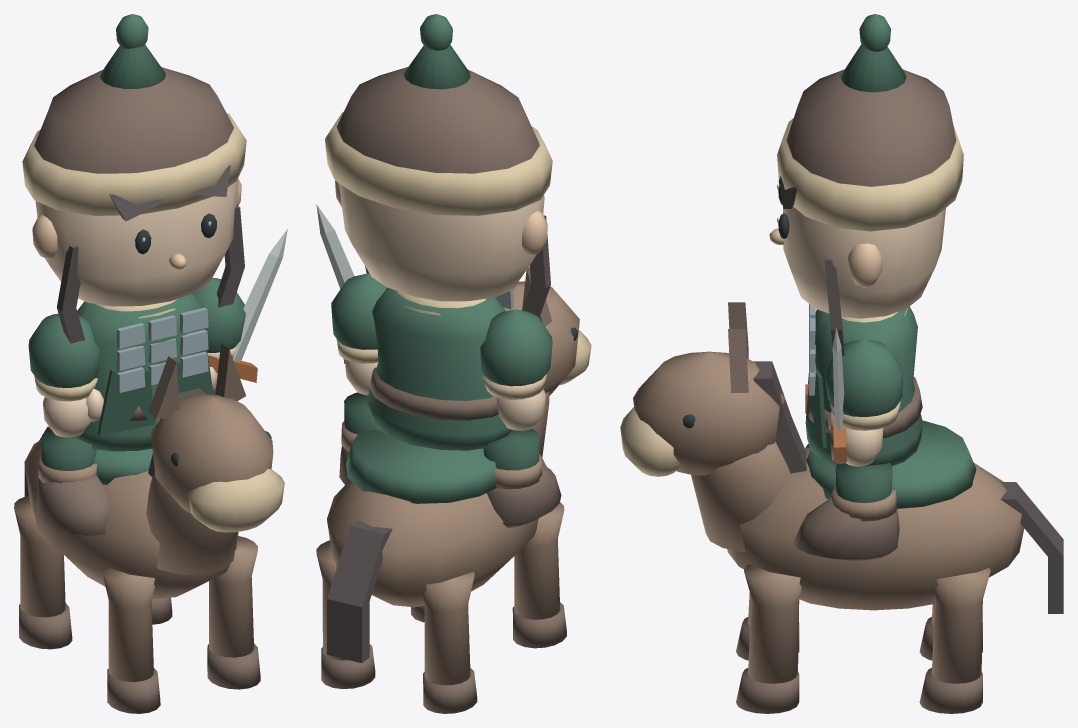
Rendered from rider.glb.
3 views of the same model, side by side, from view 1: azimuth 30°, elevation 25°; view 2: azimuth 150°, elevation 25°; view 3: azimuth 270°, elevation 25° (orthographic). The views are drawn at different scales.
Parts seen in each view (by area): view 1: Regional helmet, Soft cheek head, Pony head, Fur hat brim, Plump pony body, Short folded tunic, Pony neck, Pony stubby leg, Pony stubby leg.001, Pony muzzle, Pony stubby leg.002, Puff sleeve (+34 smaller); view 2: Regional helmet, Soft cheek head, Short folded tunic, Plump pony body, Fur hat brim, Saddle blanket, Pony tail, Pony stubby leg.002, Puff sleeve, Pony stubby leg, Puff sleeve.001, Broad leather belt (+20 smaller); view 3: Plump pony body, Regional helmet, Pony head, Soft cheek head, Fur hat brim, Pony neck, Short folded tunic, Saddle blanket, Pony stubby leg.001, Pony stubby leg.003, Round leather boot.001, Puff sleeve.001 (+17 smaller).
Part boxes in pixels (bbox=[...]): Regional helmet: bbox=[34, 67, 233, 173]; Soft cheek head: bbox=[35, 179, 238, 306]; Pony head: bbox=[151, 394, 273, 513]; Fur hat brim: bbox=[22, 113, 246, 215]; Plump pony body: bbox=[24, 440, 238, 598]; Short folded tunic: bbox=[74, 293, 203, 451]; Pony neck: bbox=[146, 471, 237, 575]; Pony stubby leg: bbox=[102, 566, 154, 681]; Pony stubby leg.001: bbox=[209, 536, 257, 657]; Pony muzzle: bbox=[188, 468, 284, 532]; Pony stubby leg.002: bbox=[14, 496, 65, 617]; Puff sleeve: bbox=[28, 313, 99, 387]; Regional helmet: bbox=[337, 67, 539, 173]; Soft cheek head: bbox=[339, 183, 544, 301]; Short folded tunic: bbox=[366, 287, 511, 450]; Plump pony body: bbox=[327, 456, 546, 607]; Fur hat brim: bbox=[325, 111, 552, 215]; Saddle blanket: bbox=[346, 430, 496, 503]; Pony tail: bbox=[327, 520, 392, 663]; Pony stubby leg.002: bbox=[422, 571, 474, 685]; Puff sleeve: bbox=[480, 309, 552, 386]; Pony stubby leg: bbox=[514, 502, 564, 619]; Puff sleeve.001: bbox=[331, 273, 387, 349]; Broad leather belt: bbox=[370, 367, 498, 420]; Plump pony body: bbox=[727, 447, 1024, 610]; Regional helmet: bbox=[786, 69, 956, 186]; Pony head: bbox=[633, 351, 784, 475]; Soft cheek head: bbox=[783, 206, 945, 318]; Fur hat brim: bbox=[777, 118, 963, 231]; Pony neck: bbox=[691, 441, 790, 552]; Short folded tunic: bbox=[805, 306, 922, 466]; Saddle blanket: bbox=[806, 420, 976, 508]; Pony stubby leg.001: bbox=[744, 564, 801, 683]; Pony stubby leg.003: bbox=[931, 568, 990, 683]; Round leather boot.001: bbox=[793, 497, 899, 561]; Puff sleeve.001: bbox=[824, 339, 903, 416].
Bounding box in the file's own units: 0.9142 × 2.31 × 1.4.
